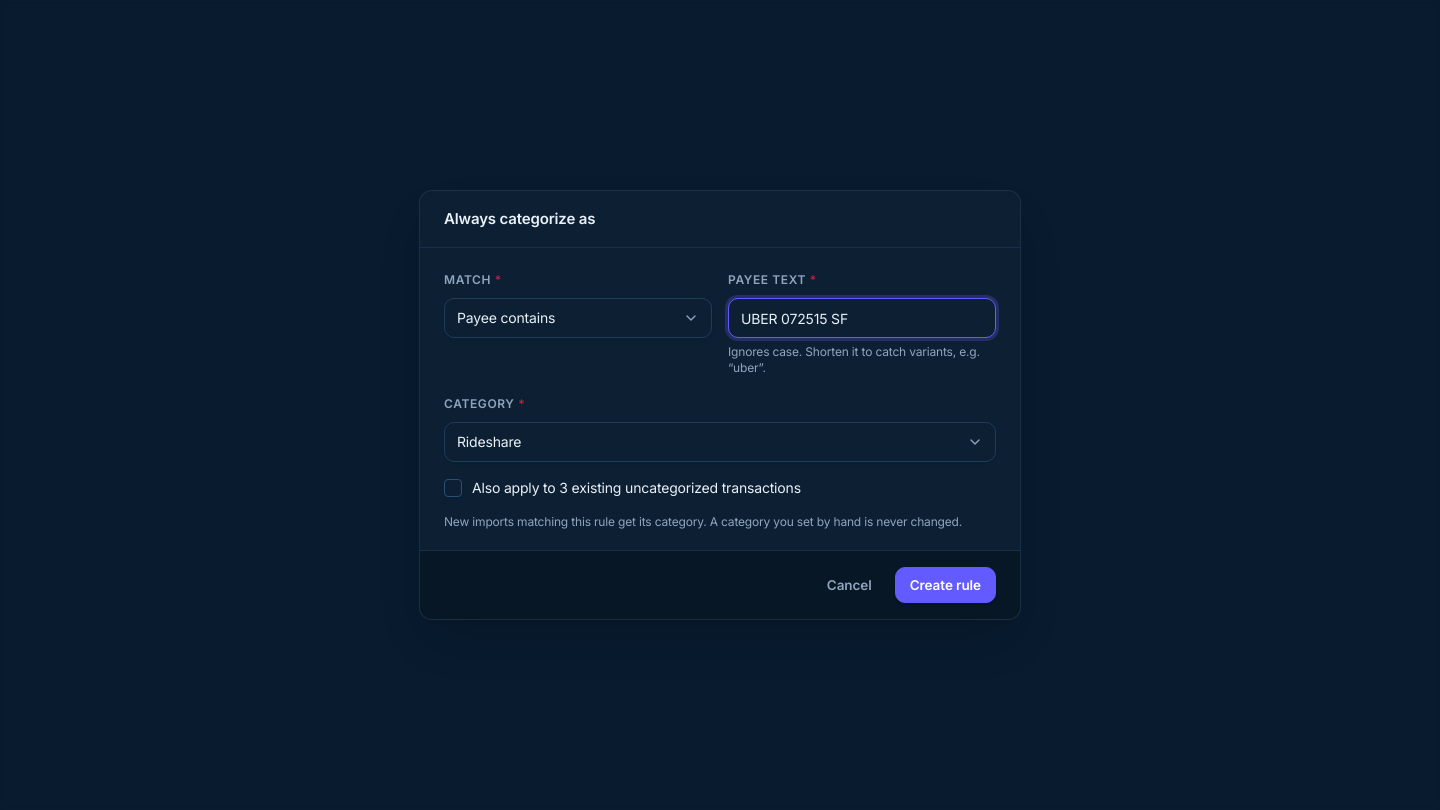
Scenario: CategoryRuleDialog (BUD-24) › shows the server's message and stays open when saving fails
This screenshot has width=1440, height=810.
Click the button "Create rule".
click(945, 585)  # box [895, 567, 996, 603]
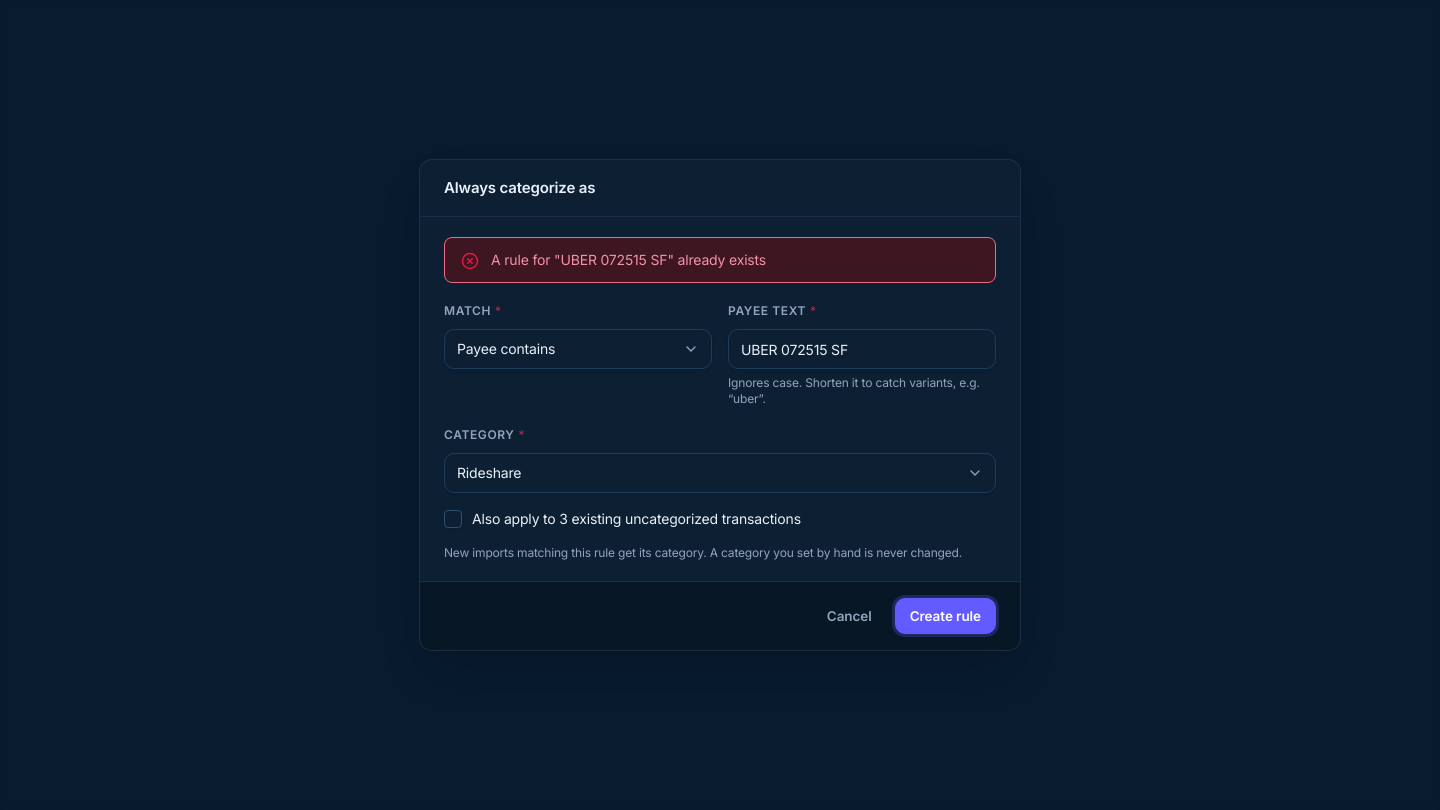
expect the text "A rule for \"UBER 072515 SF\" already exists" is shown: met, box [491, 251, 766, 268]
